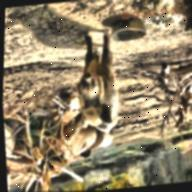boar: (68, 28, 124, 138)
